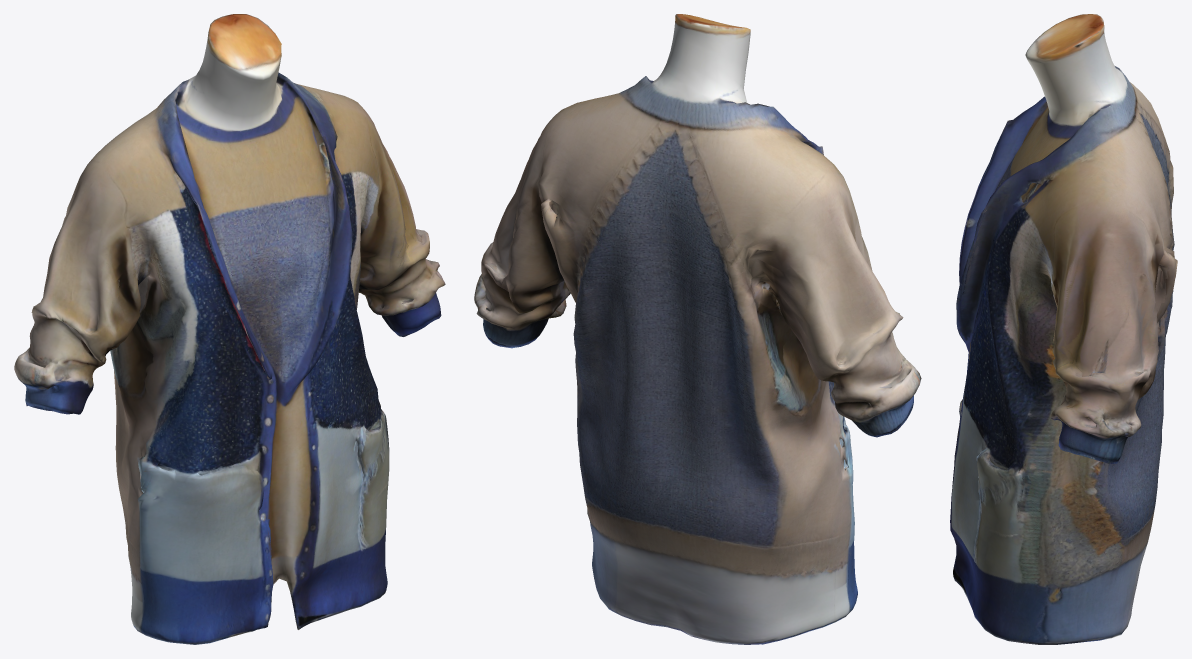
The model's file is product02.glb.
The picture shows the model from 3 angles, left to right: view 1: azimuth 30°, elevation 25°; view 2: azimuth 150°, elevation 25°; view 3: azimuth 270°, elevation 25°; orthographic projection. The views are drawn at different scales.
Size of the model in its own units: 1.5 by 1.99 by 0.7099.
1 material, 1 textured.
